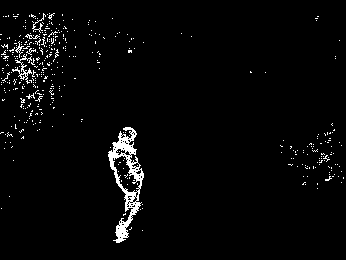person: (105, 123, 145, 247)
